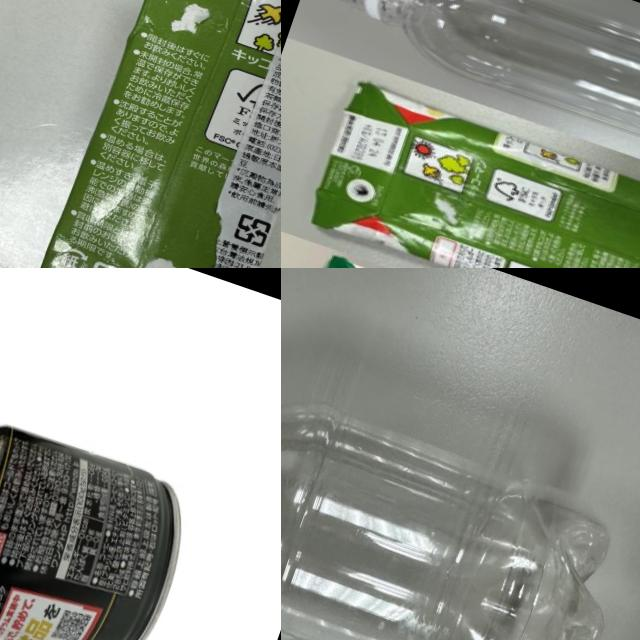Aluminium Foil: (294, 76, 640, 268), (34, 0, 281, 268)
Can: (0, 365, 208, 640)
Transparent Plastic Bottle: (281, 341, 637, 640), (317, 0, 640, 217)
